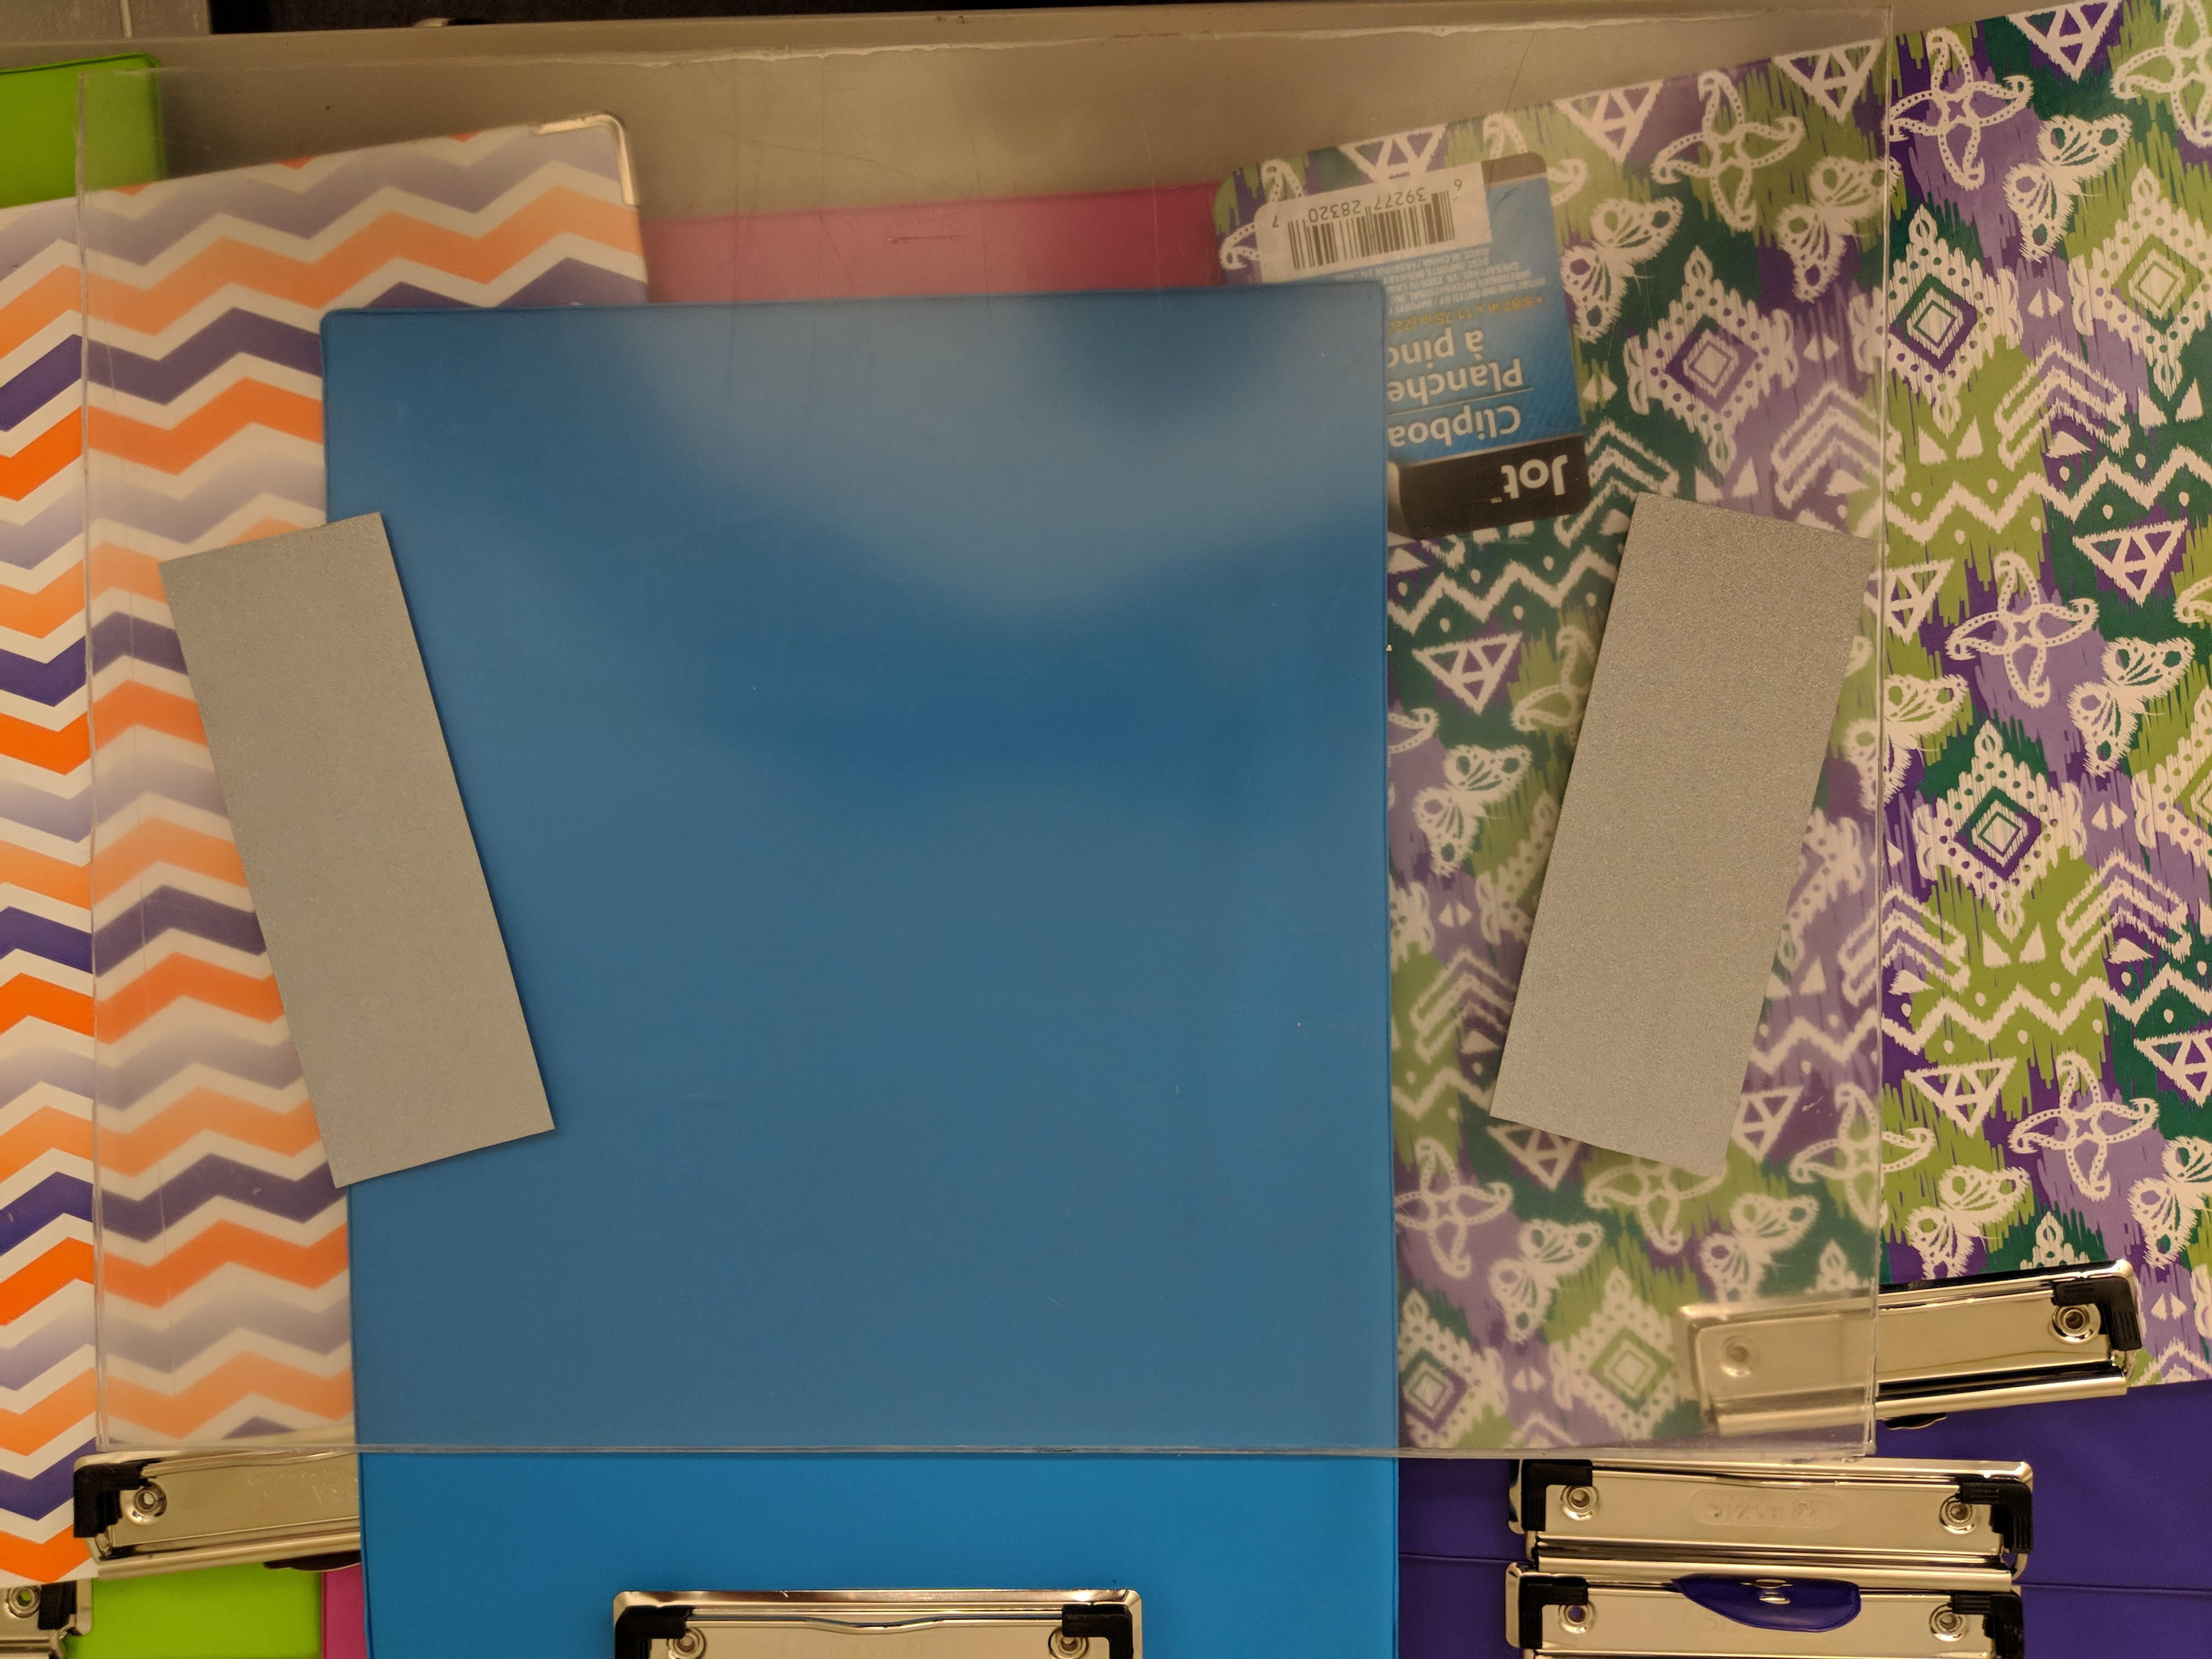vision_target: (148, 479, 1825, 1187)
